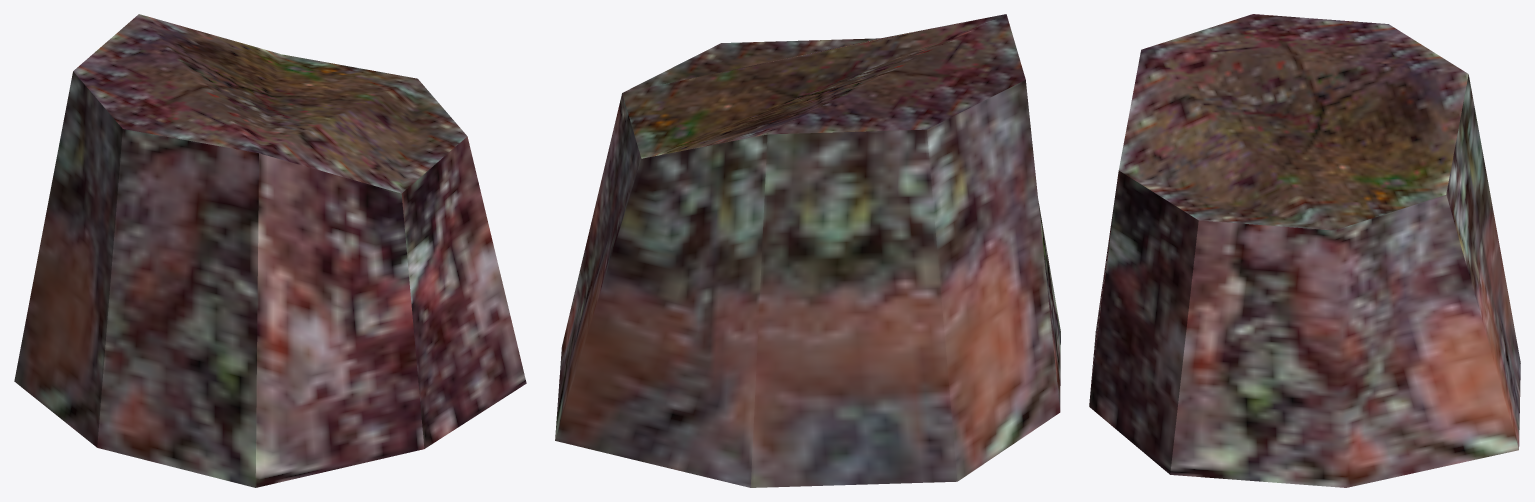
Rendered from fp_stump_1.glb.
3 views of the same model, side by side, from view 1: azimuth 30°, elevation 25°; view 2: azimuth 150°, elevation 25°; view 3: azimuth 270°, elevation 25° (orthographic). The views are drawn at different scales.
Visible parts, largest first — view 1: _MeshInstance3D_46; view 2: _MeshInstance3D_46; view 3: _MeshInstance3D_46.
Boxes of the visible parts, x1,y1,x2,y2 form: _MeshInstance3D_46: (14, 14, 526, 487); _MeshInstance3D_46: (555, 14, 1060, 487); _MeshInstance3D_46: (1089, 14, 1520, 487).
Size of the model in its own units: 0.3342 by 0.2387 by 0.3158.
1 material, 1 textured.
